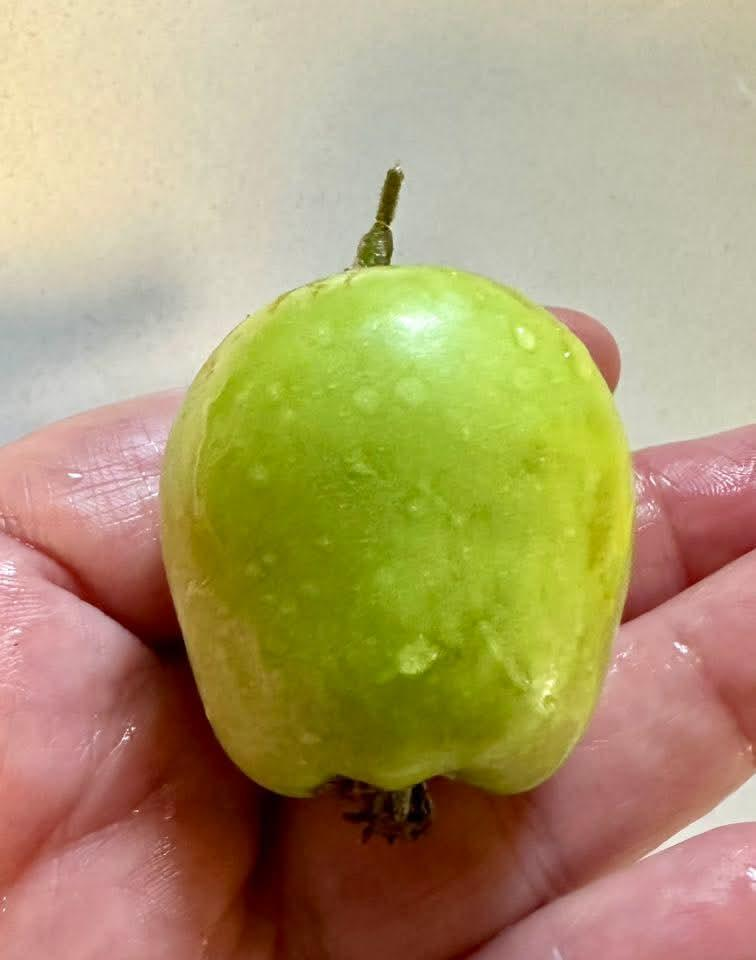non-mango: (170, 248, 629, 807)
